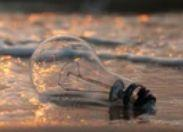light bulb: (28, 32, 158, 118)
